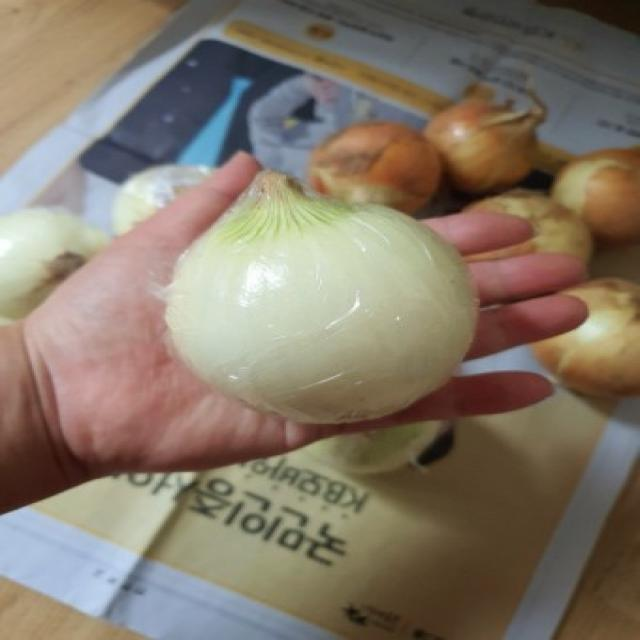onion: (191, 171, 462, 437)
